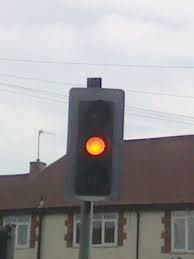amber: (75, 98, 114, 203), (82, 103, 110, 195)
